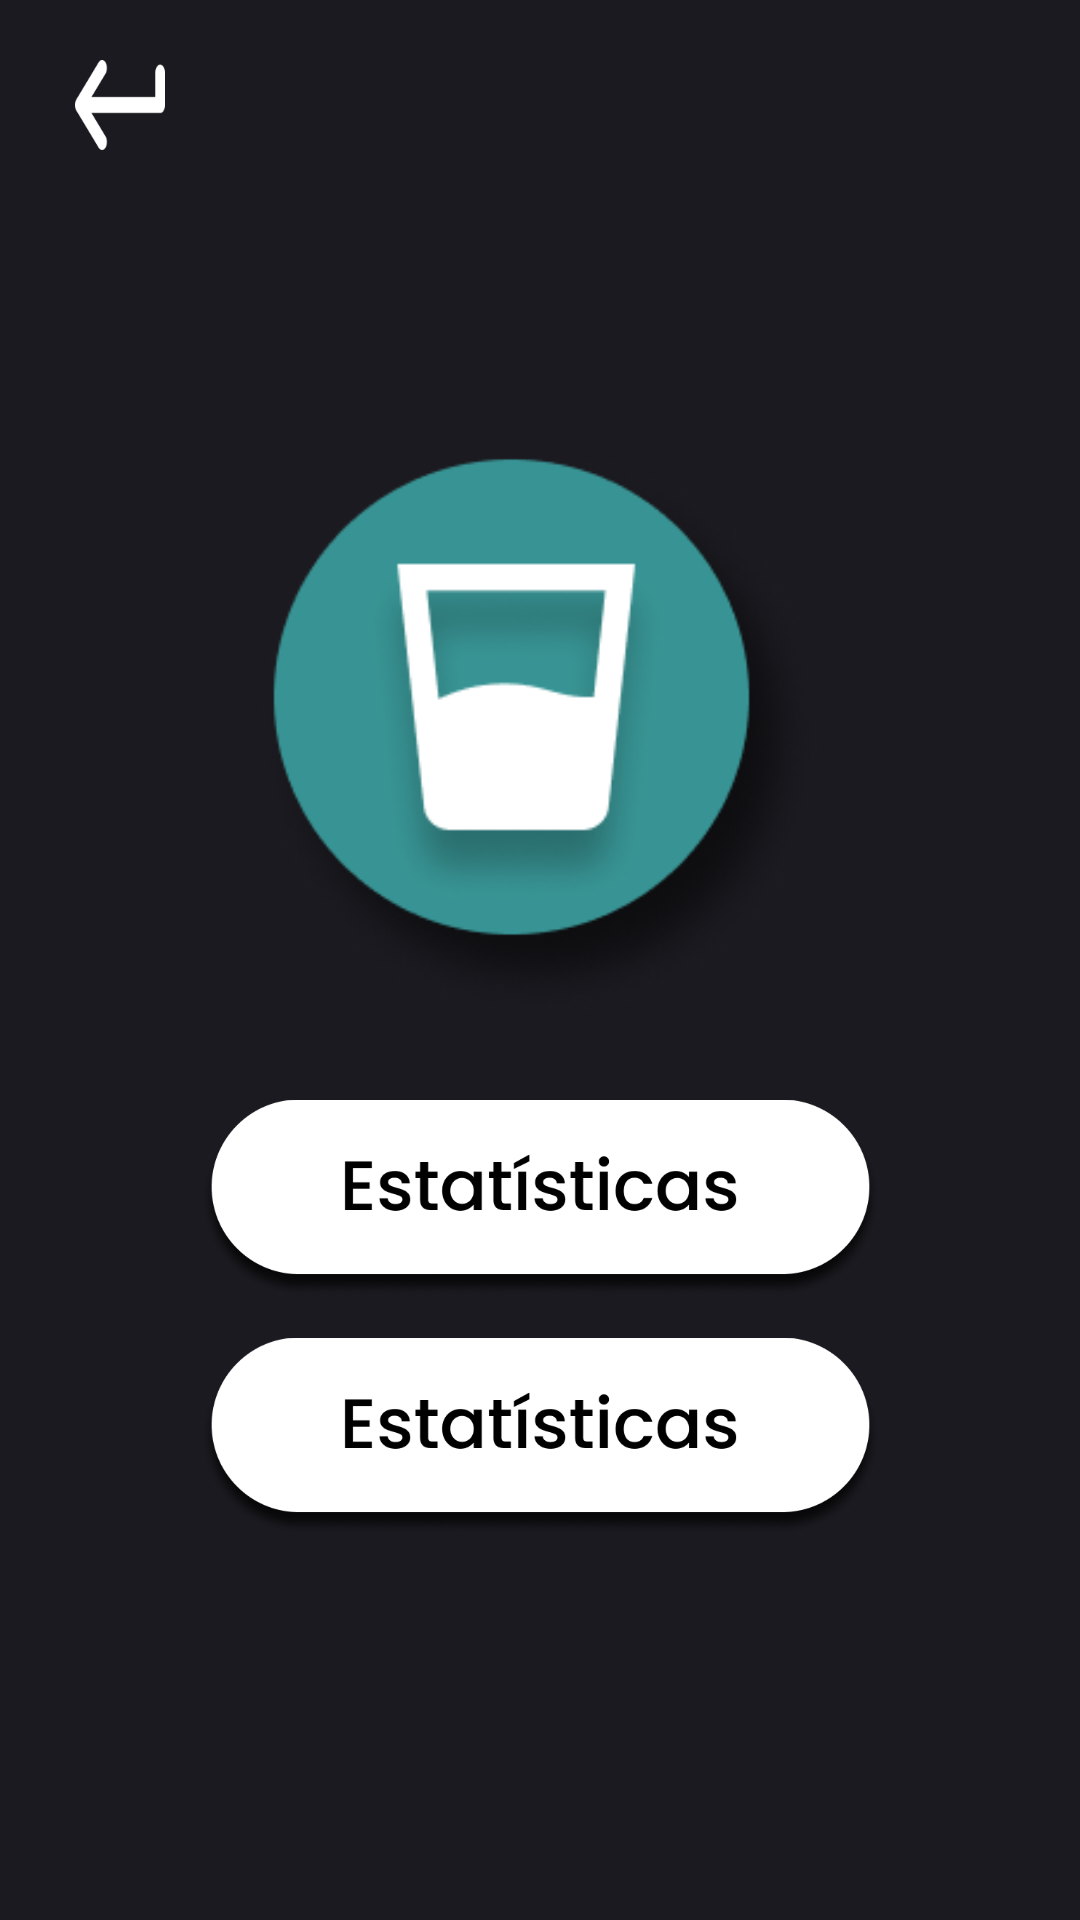

Icon bounding boxes for this 1080*1920 phone screenshot, format (x1, y1, x2, y2):
return: (75, 60, 165, 150)
